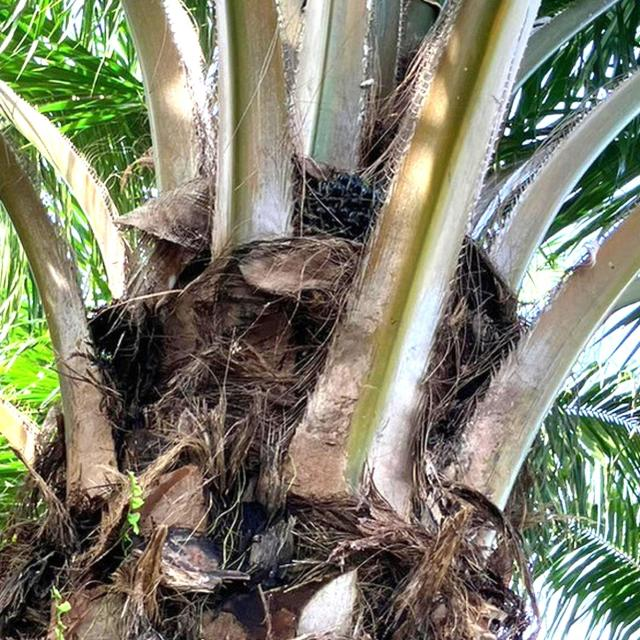unripe: (290, 165, 374, 248)
